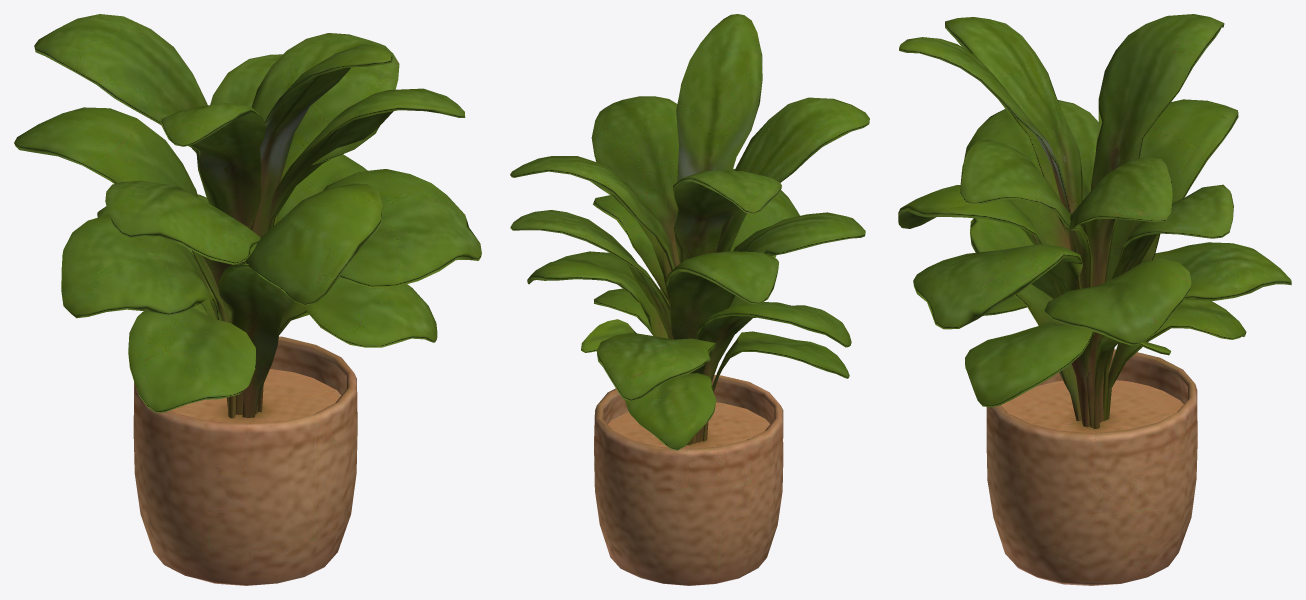
The model's file is plant.palm.glb.
The picture shows the model from 3 angles, left to right: view 1: azimuth 30°, elevation 25°; view 2: azimuth 150°, elevation 25°; view 3: azimuth 270°, elevation 25°; orthographic projection. The views are drawn at different scales.
Visible parts, largest first — view 1: geometry_0; view 2: geometry_0; view 3: geometry_0.
Boxes of the visible parts, x1,y1,x2,y2 form: geometry_0: (14, 14, 481, 585); geometry_0: (510, 14, 869, 585); geometry_0: (898, 14, 1291, 585).
Size of the model in its own units: 0.6728 by 0.9993 by 0.678.
Materials: 1 (1 with a texture image).
